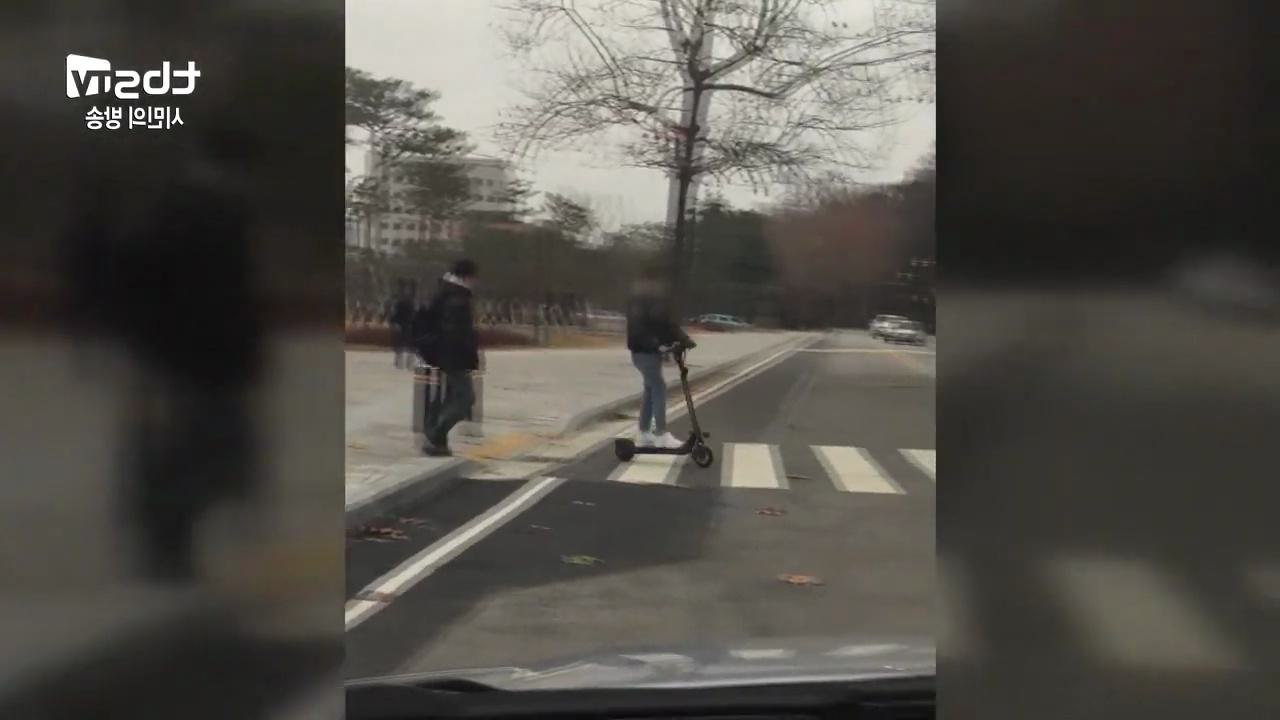nonhelmet: (602, 264, 713, 473)
